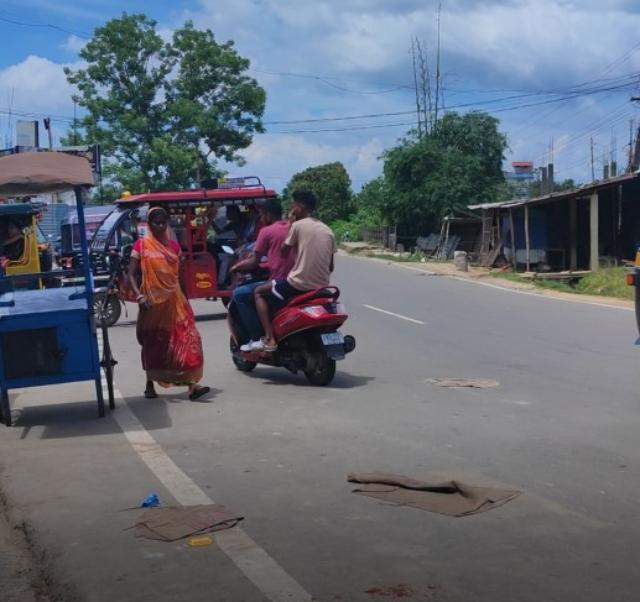licensePlate: (321, 334, 346, 346)
motorcycle: (222, 186, 356, 385)
withoutHelmet: (291, 189, 318, 219), (258, 200, 282, 225)
